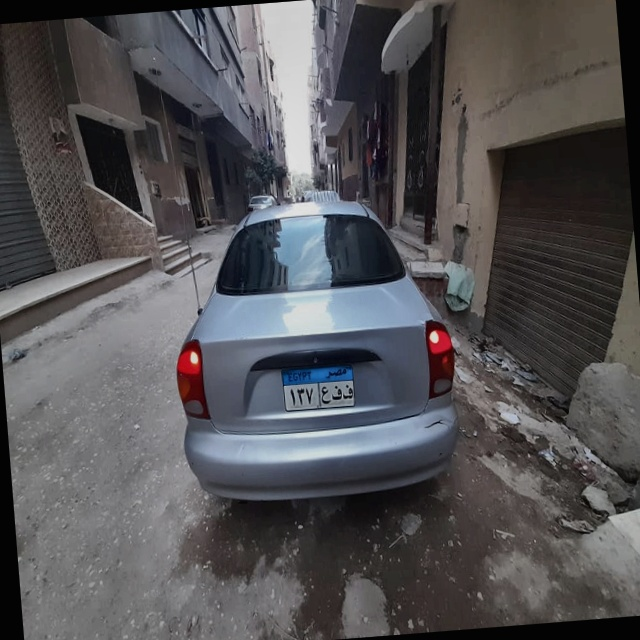License Plate: (280, 360, 357, 414)
